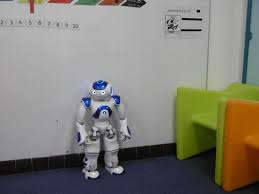nao: (64, 72, 139, 184)
